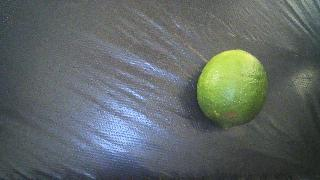DESECHO: (197, 50, 268, 128)
